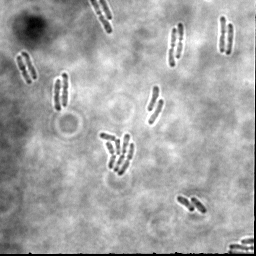Dividing: (90, 1, 113, 35), (15, 54, 33, 85), (20, 51, 39, 80), (167, 26, 179, 68), (52, 76, 63, 113), (175, 22, 185, 60), (61, 71, 70, 108)
Microcolony: (98, 131, 136, 176)
Rod: (147, 99, 165, 125), (146, 85, 160, 112), (176, 194, 195, 212), (225, 22, 235, 55), (190, 195, 208, 213), (100, 1, 114, 20)
